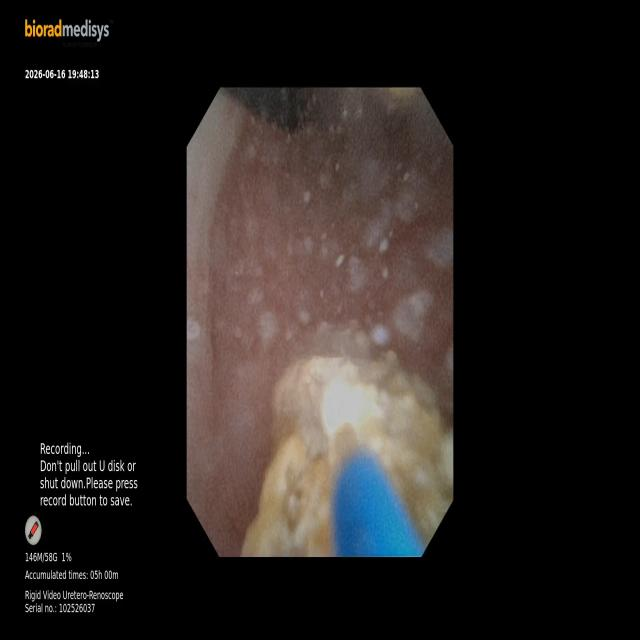laser-fibre: (330, 420, 360, 473)
laser_dot: (322, 381, 355, 436)
stone-new: (241, 345, 453, 556)
